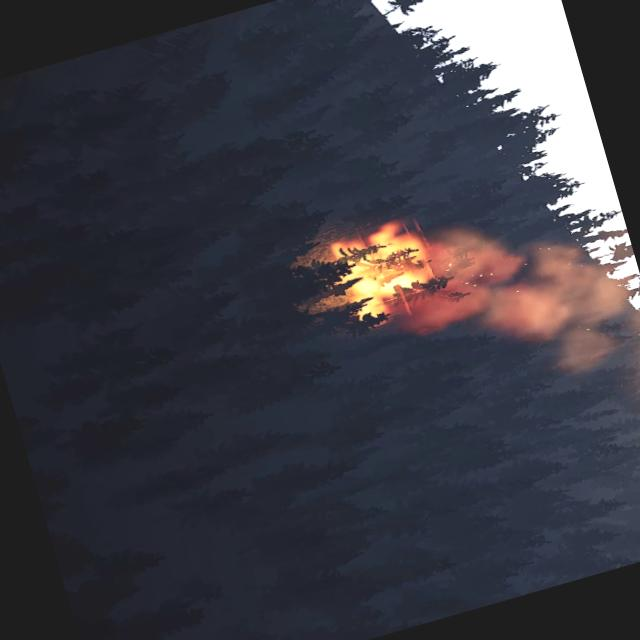fire: (322, 214, 442, 330)
smoke: (379, 190, 640, 496)
